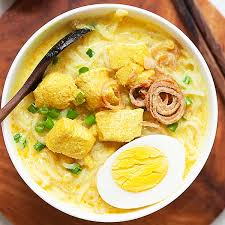soto: (4, 3, 225, 218)
